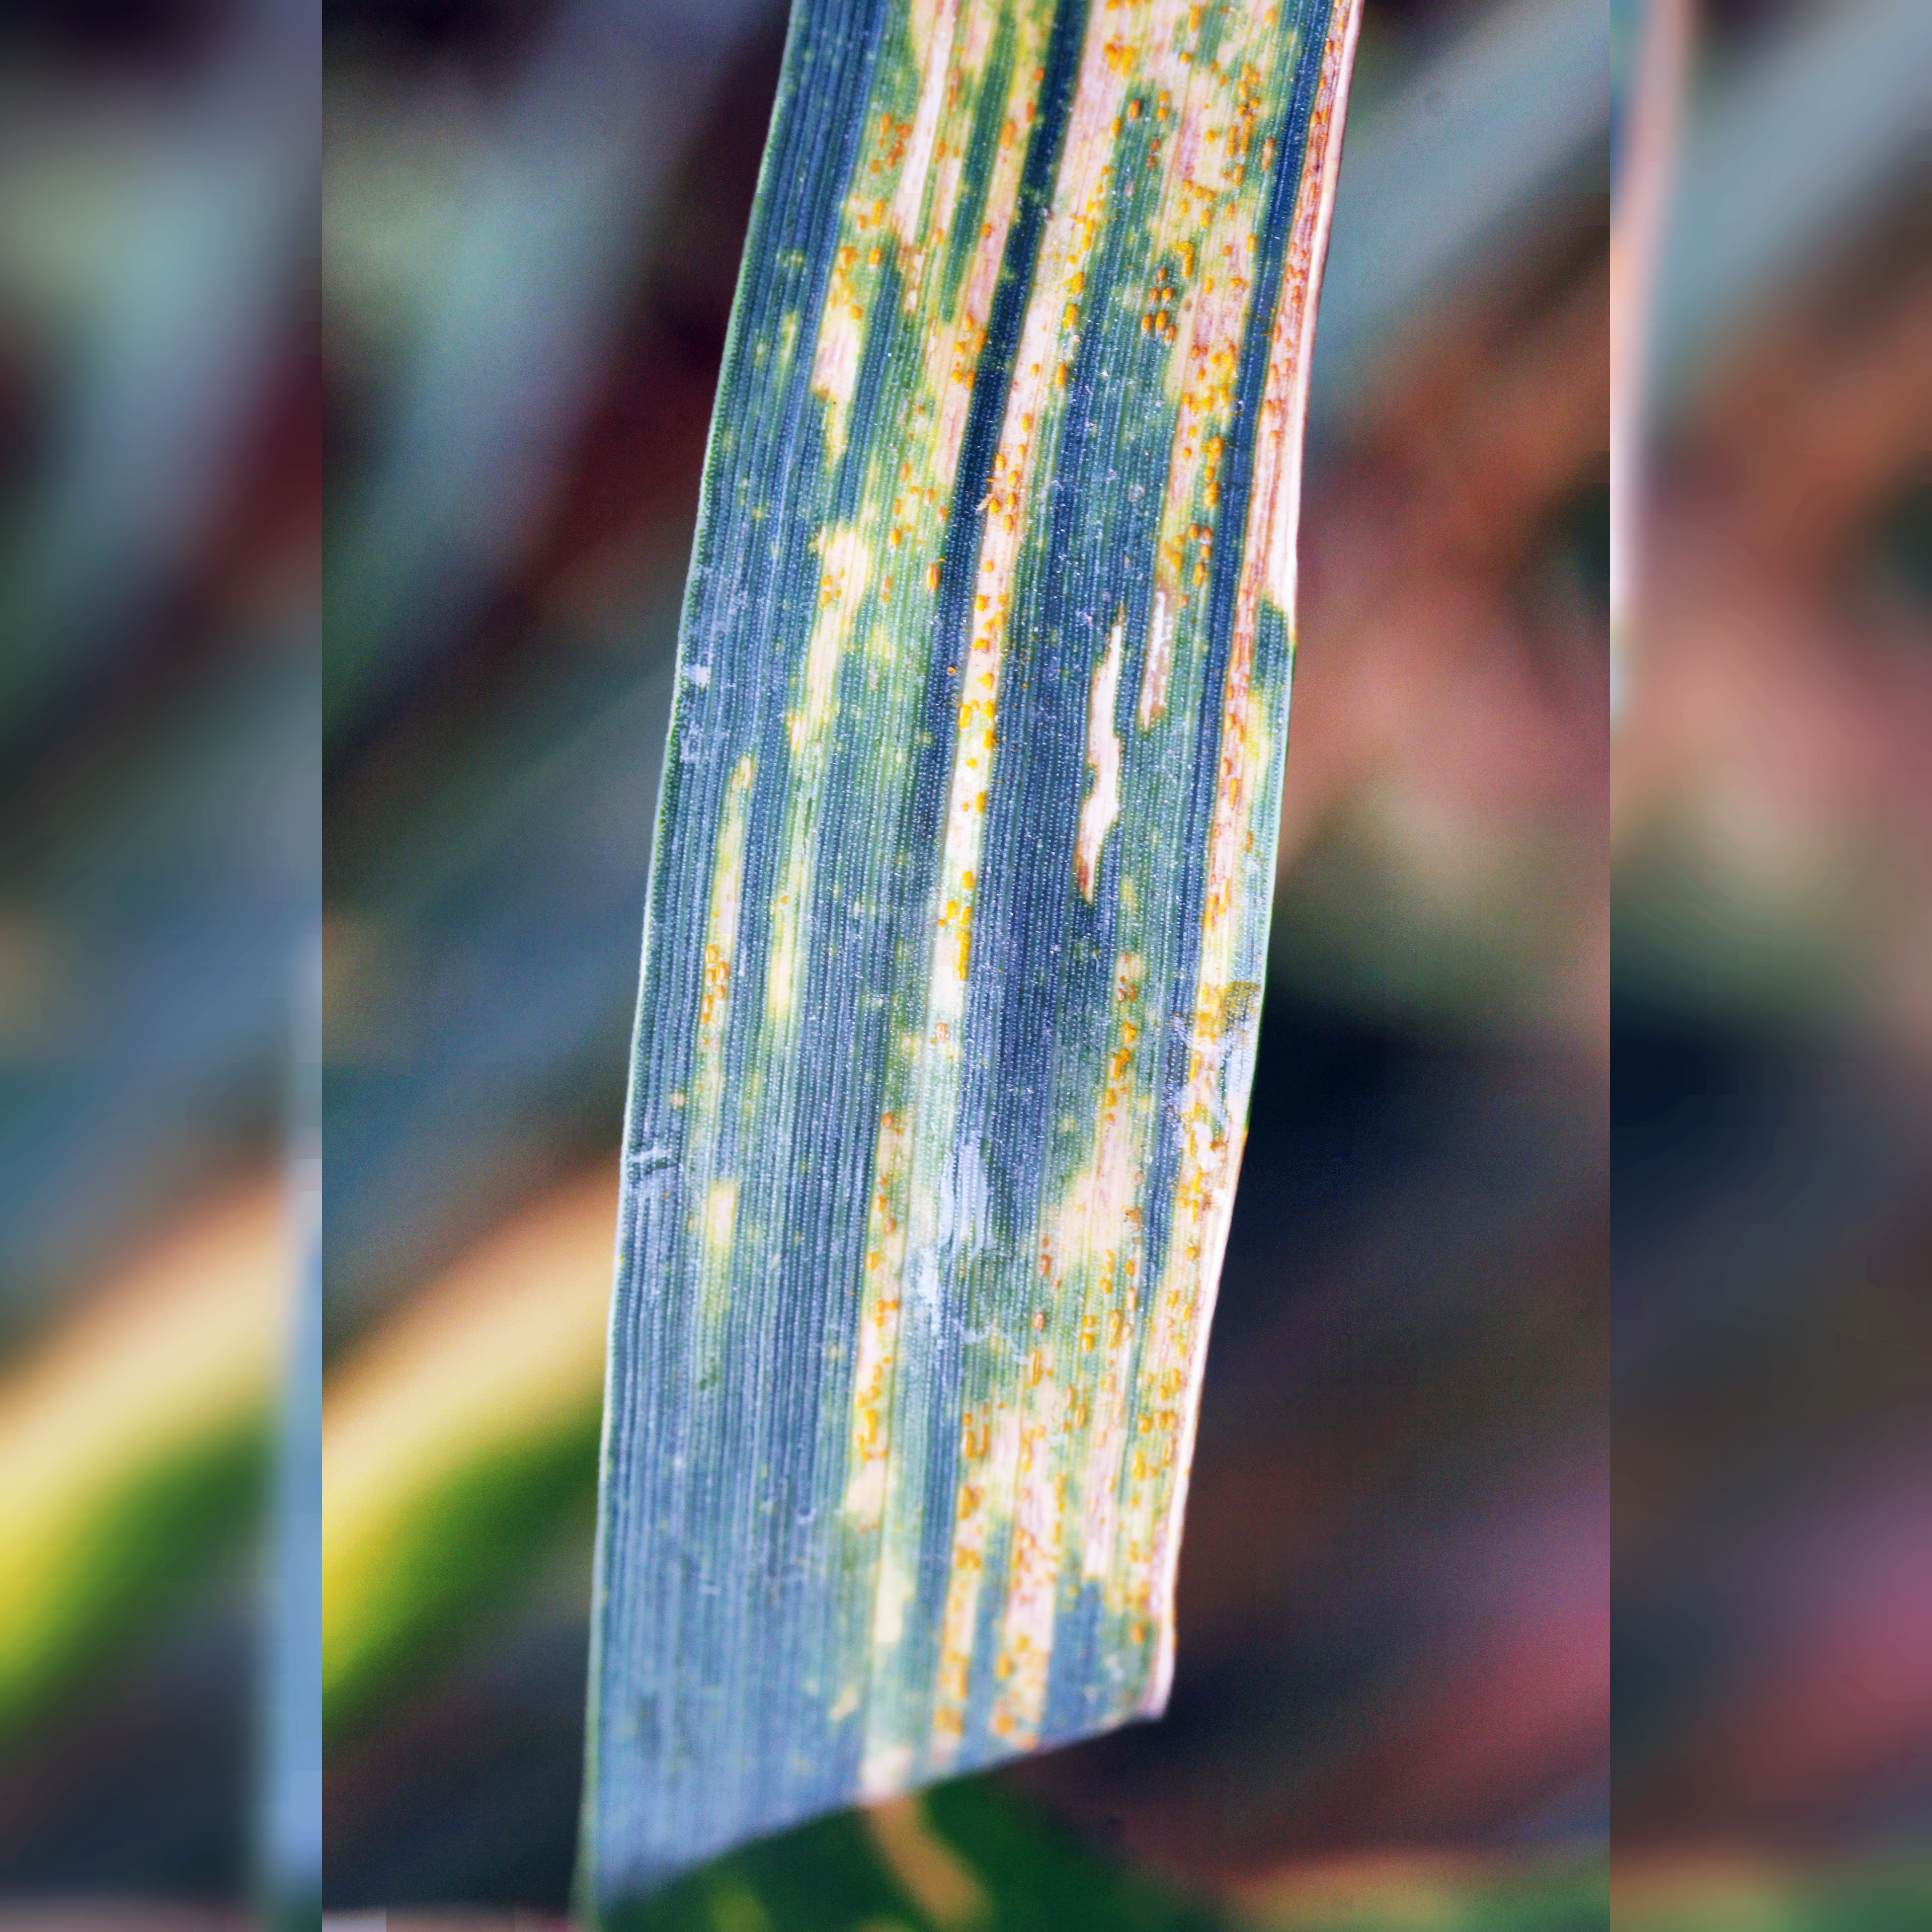Leaf Rust: (793, 41, 1322, 1635)
